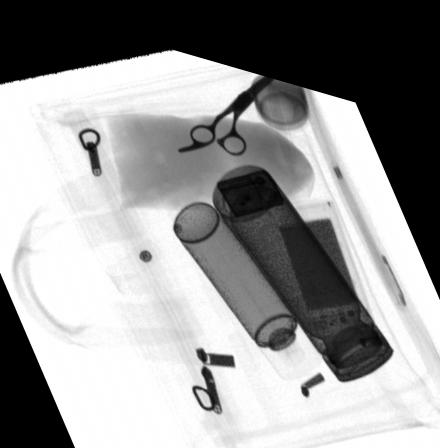Lighter: (212, 150, 284, 206)
Powerbank: (263, 181, 377, 322)
Scissors: (176, 60, 276, 145)
Sprayer: (171, 187, 321, 364)
